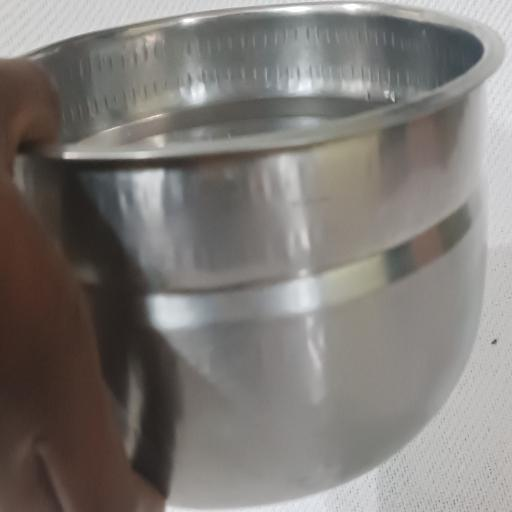vessel: (15, 4, 503, 507)
